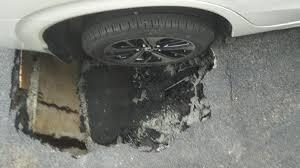Pothole: (11, 52, 227, 158)
